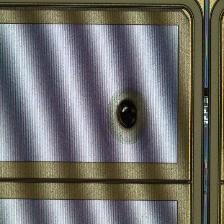COATING BAD: (108, 89, 150, 147)
